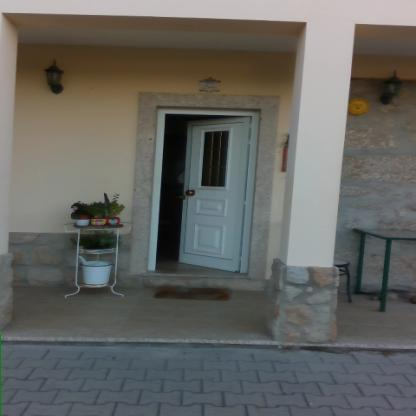semi: (137, 92, 271, 291)
